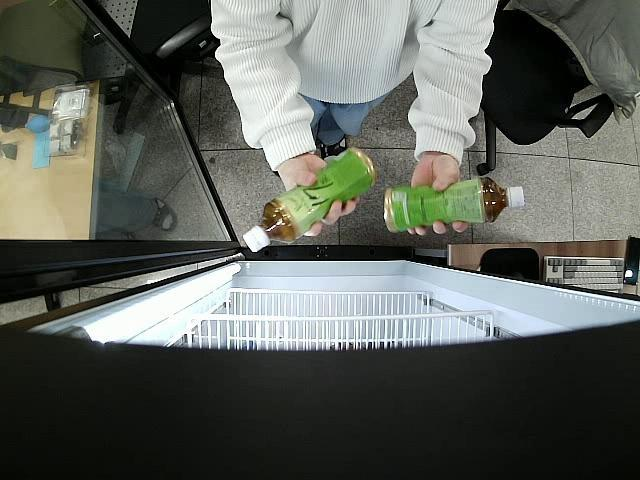19_17cha: (244, 146, 378, 253), (386, 176, 522, 233)
